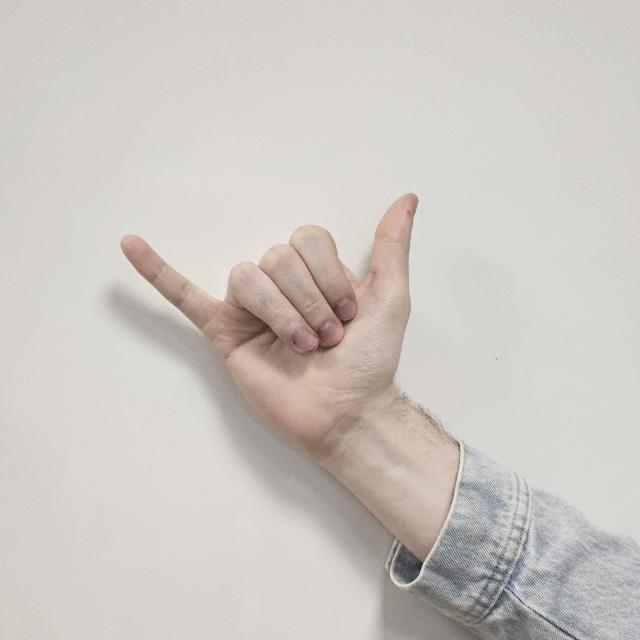Direita: (116, 190, 448, 458)
